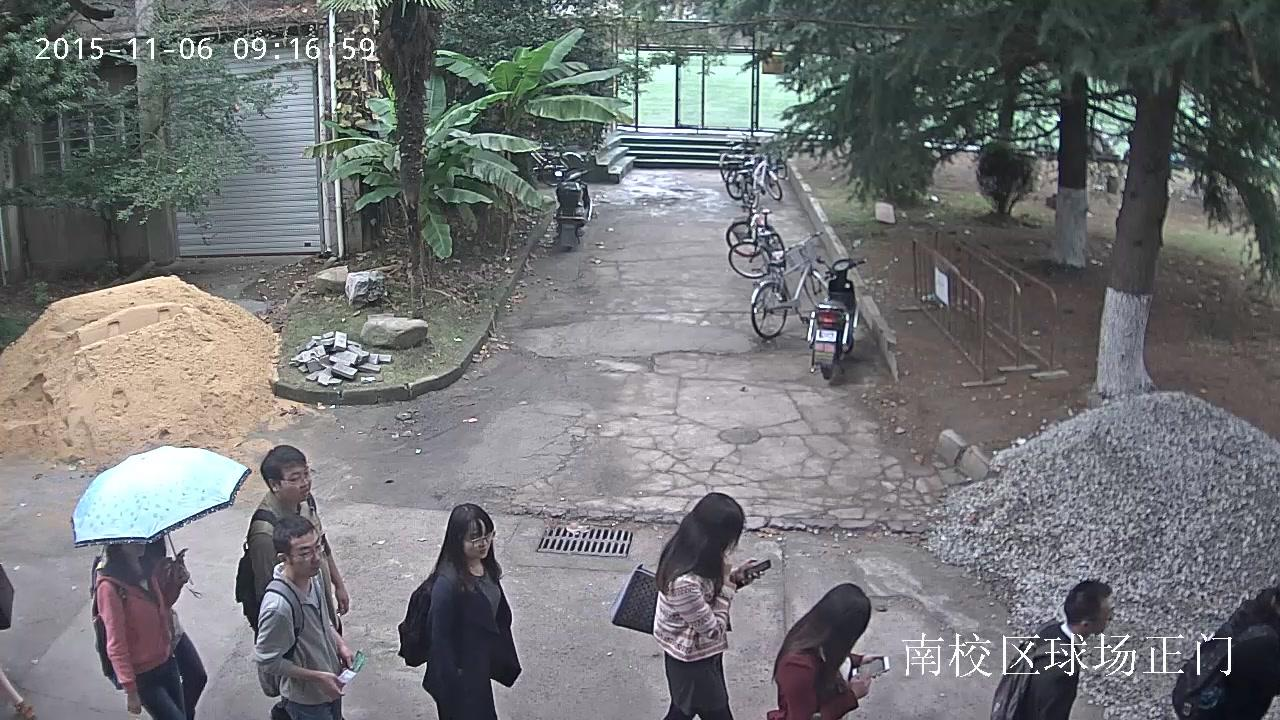face: (287, 530, 321, 575), (463, 519, 493, 558), (278, 466, 311, 500), (1089, 595, 1113, 633), (122, 544, 145, 556)
